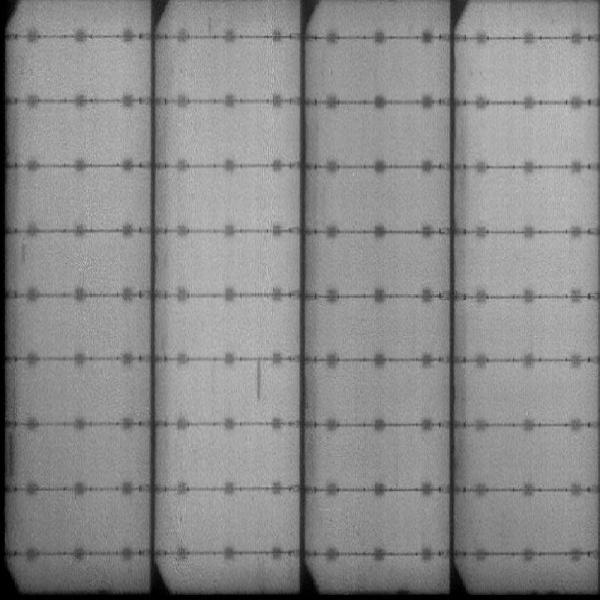scratch: (253, 356, 263, 397)
